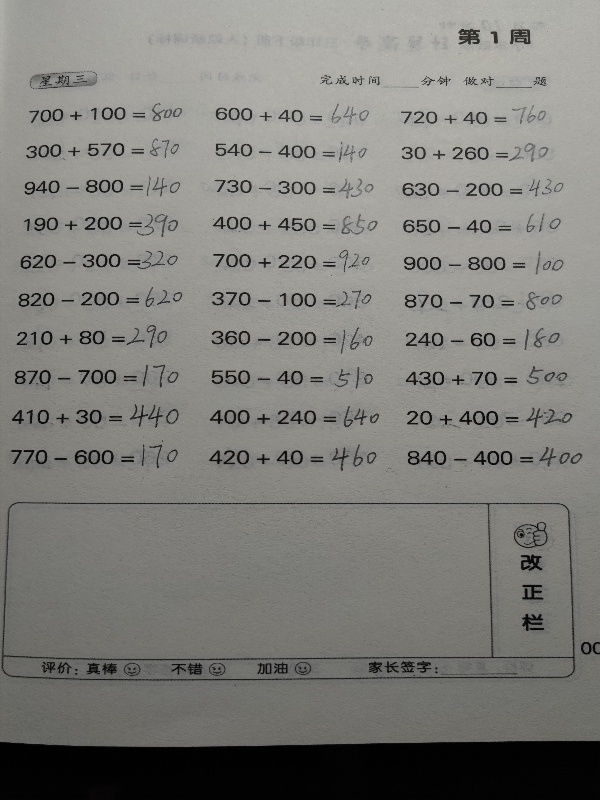equation: (404, 441, 590, 474), (205, 443, 380, 476), (11, 443, 184, 476), (10, 400, 186, 432), (24, 209, 193, 242), (207, 325, 376, 357), (11, 361, 183, 391), (210, 246, 374, 277), (15, 283, 187, 312), (207, 403, 383, 431), (208, 363, 377, 392), (14, 321, 172, 352), (18, 173, 187, 201), (401, 326, 563, 355), (209, 209, 382, 236), (404, 404, 576, 431), (402, 364, 571, 390), (209, 287, 376, 313), (401, 288, 566, 314), (400, 211, 565, 237), (400, 174, 571, 199), (211, 136, 374, 162), (397, 101, 548, 129), (16, 249, 183, 274), (22, 137, 182, 162), (400, 251, 566, 275), (398, 139, 555, 164), (211, 101, 372, 125), (210, 175, 376, 198), (26, 103, 187, 124)
